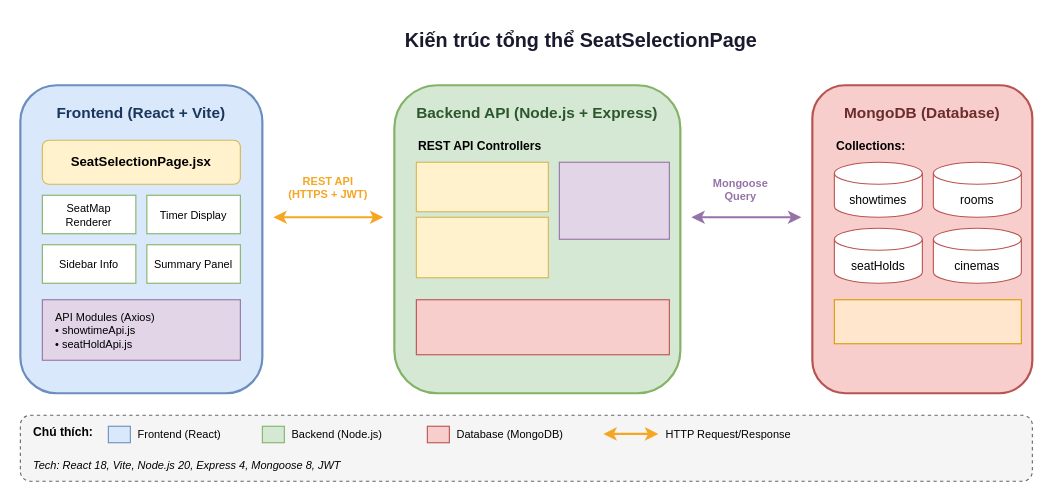
The diagram is 1052 pixels wide and 501 high, and some of its shapes have lost their labels. The shapes that lost their labels are listed below. From the top down, each one's centre as x and y in pixels, then its label:
At point (481, 186): "ShowtimeController GET /showtimes/:id".
At point (613, 200): "Middleware • JWT Auth • Validation • Error Handler".
At point (481, 247): "SeatHoldController POST /seat-holds DELETE /seat-holds".
At point (542, 327): "Mongoose ODM Schema + Validation + Population".
At point (927, 321): "⏱ TTL Index: expiresAt (Auto-delete sau 15 phút)".
